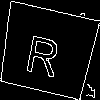R: (23, 25, 64, 78)
